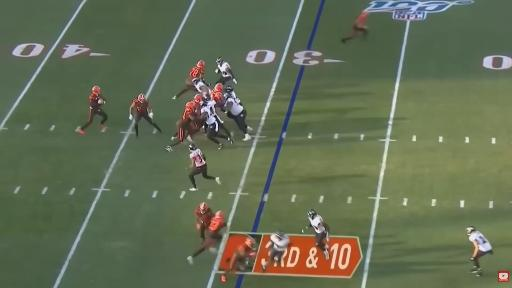Helmet: (274, 230, 286, 241), (212, 92, 222, 102), (199, 201, 207, 213), (91, 86, 101, 95), (213, 83, 223, 92), (308, 210, 317, 219), (194, 94, 203, 103), (247, 239, 256, 248), (216, 57, 224, 65), (138, 94, 146, 102), (466, 227, 475, 234), (197, 61, 205, 68), (215, 211, 223, 218), (189, 145, 196, 153), (186, 103, 194, 110), (191, 77, 199, 84), (203, 95, 211, 102), (199, 102, 208, 108), (225, 86, 233, 92), (362, 12, 367, 17)
Jersey: (469, 231, 491, 251), (201, 101, 216, 124), (225, 98, 243, 115), (271, 234, 289, 251), (190, 149, 206, 167), (195, 208, 214, 223), (310, 216, 326, 233), (224, 91, 242, 105), (209, 216, 223, 231), (133, 99, 148, 113), (218, 62, 232, 77), (89, 94, 102, 109), (193, 79, 207, 92), (237, 243, 252, 255), (355, 12, 367, 26), (190, 67, 204, 78), (182, 110, 193, 121)
Player: (188, 211, 226, 264), (201, 93, 232, 149), (221, 237, 255, 282), (223, 86, 250, 141), (166, 101, 195, 151), (189, 144, 220, 190), (129, 94, 162, 137), (78, 86, 107, 134), (467, 227, 493, 276), (173, 61, 204, 99), (263, 231, 290, 271), (307, 210, 329, 259), (342, 11, 368, 43), (195, 202, 213, 242), (216, 57, 237, 85), (224, 86, 243, 105), (193, 79, 210, 94), (212, 83, 223, 94)
